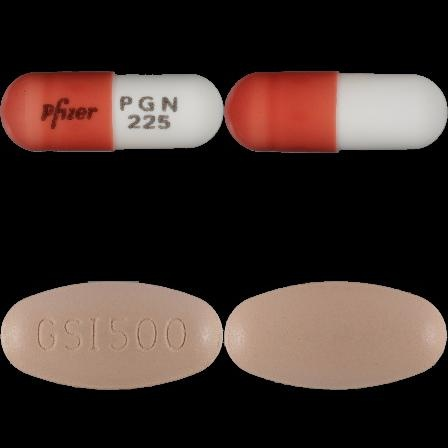43353-876: (0, 0, 224, 224)
